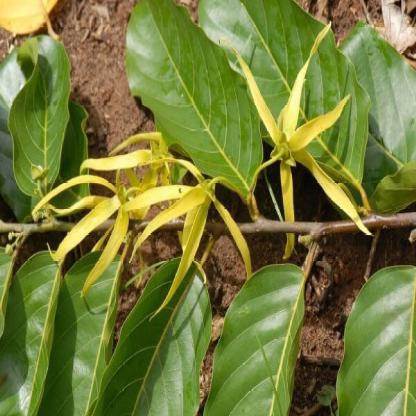Kenanga: (76, 130, 218, 254), (254, 74, 328, 209)
